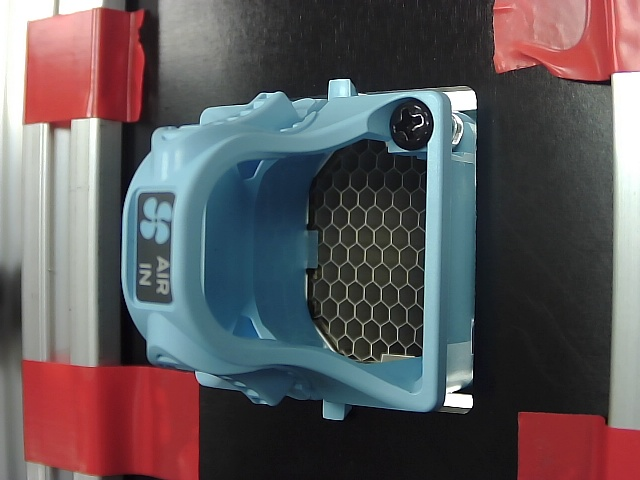7_0: (118, 84, 521, 431)
